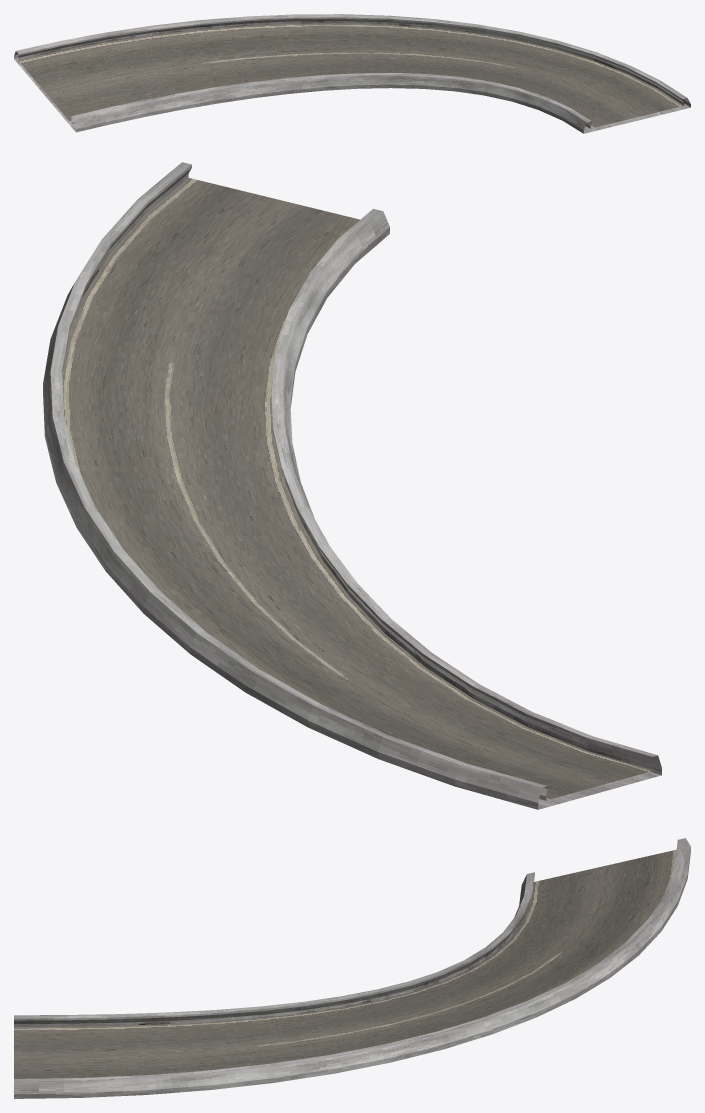
File: turn-left4x4.glb
3 renders of one model, top to bottom at view 1: azimuth 30°, elevation 25°; view 2: azimuth 150°, elevation 25°; view 3: azimuth 270°, elevation 25°, orthographic. The views are drawn at different scales.
Visible parts, largest first — view 1: road-Turn-Flat-HalfBankedLeft-Down2-Left-Size4; view 2: road-Turn-Flat-HalfBankedLeft-Down2-Left-Size4; view 3: road-Turn-Flat-HalfBankedLeft-Down2-Left-Size4.
Part boxes in pixels (x1,y1,x2,y2): road-Turn-Flat-HalfBankedLeft-Down2-Left-Size4: (14,14,690,133); road-Turn-Flat-HalfBankedLeft-Down2-Left-Size4: (43,162,661,809); road-Turn-Flat-HalfBankedLeft-Down2-Left-Size4: (14,838,690,1098).
Bounding box in the file's own units: 4 × 0.5938 × 4.
Materials: 2 (2 with a texture image).
